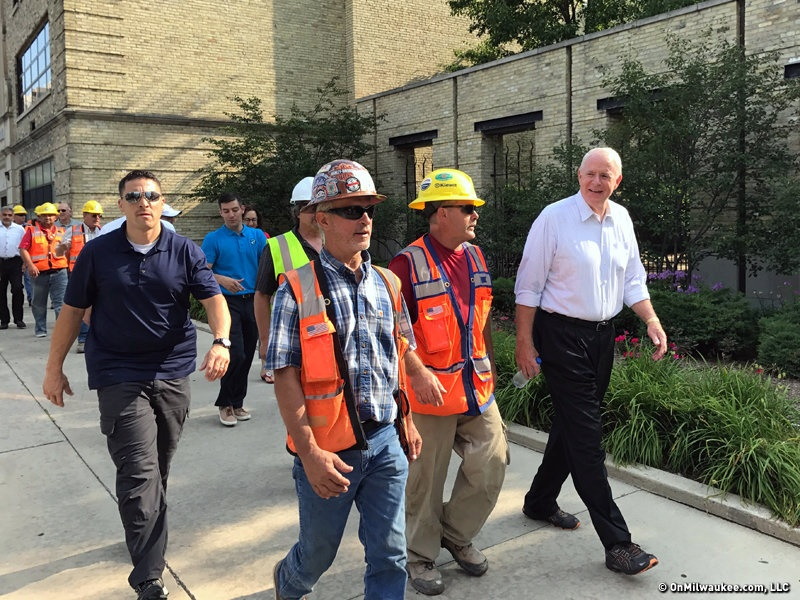none: (118, 169, 163, 231), (576, 144, 623, 202), (216, 192, 242, 225), (243, 207, 258, 227), (56, 203, 71, 222), (1, 206, 14, 226)
red: (309, 155, 380, 258)
white: (292, 175, 319, 233)
yellow: (415, 166, 483, 243), (81, 201, 102, 227), (41, 202, 56, 224), (11, 204, 27, 222)
